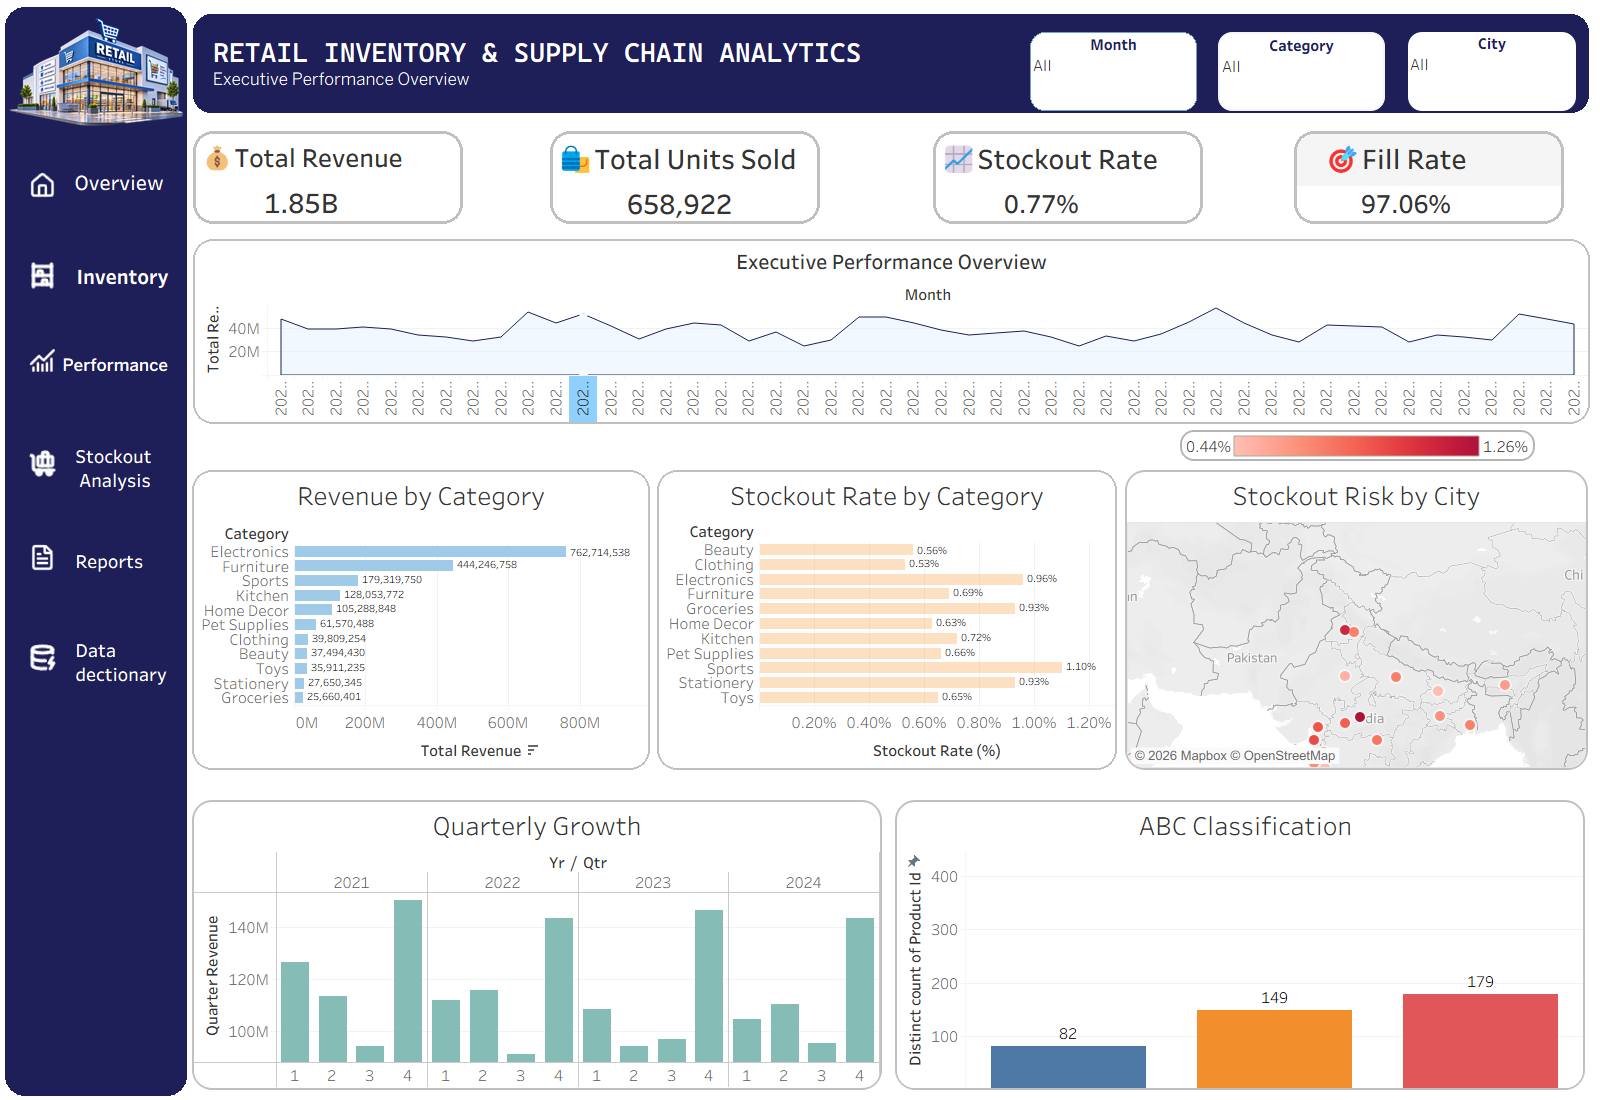

What the dashboard file says about the page in this screenshot:
{"tool":"tableau","page":{"name":"Retail Inventory & Supply Chain Analytics","canvas":[1400,900],"ordinal":1},"visuals":[{"type":"image","param":"C:/Users/sumer_idz14/Downloads/ChatGPT Image Aug 18, 2026, 01_57_03 PM.png","box":[7,6,153,106]},{"type":"image","param":"C:/Users/sumer_idz14/Documents/Projects ----/EV Charging Station Demand Analysis","box":[16,16,1368,868]},{"type":"text","box":[169,19,1221,89]},{"type":"filter","title":"Executive Performance Overview","param":"[federated.02hf0fc08j33zg1e41bme0dwy80j].[none:month:nk]","box":[897,22,155,80]},{"type":"filter","title":"Revenue by Category","param":"[federated.062l1l41enw07t108fr910so1ngt].[none:category:nk]","box":[1061,22,155,81]},{"type":"filter","title":"Stockout Risk by City","param":"[federated.0ufaq6i0nyh3ez1esy3gd18hnwsr].[attr:city:nk]","box":[1228,22,155,81]},{"type":"text","box":[63,130,113,60]},{"type":"worksheet","title":"Total Revenue","mark":"Automatic","box":[169,131,260,110]},{"type":"worksheet","title":"Total Units Sold","mark":"Automatic","box":[487,131,260,110]},{"type":"worksheet","title":"Stockout Rate","mark":"Automatic","box":[812,131,260,110]},{"type":"worksheet","title":"Fill Rate","mark":"Automatic","box":[1132,131,260,110]},{"type":"image","param":"C:/Users/sumer_idz14/Documents/Projects ----/EV Charging Station Demand Analysis","box":[25,146,24,24]},{"type":"text","box":[63,197,99,64]},{"type":"image","param":"C:/Users/sumer_idz14/Downloads/shelving-unit.png","box":[25,213,24,24]},{"type":"worksheet","title":"Executive Performance Overview","mark":"Area","rows":["total_revenue"],"cols":["month"],"box":[169,260,1222,240]},{"type":"text","box":[52,273,117,52]},{"type":"image","param":"C:/Users/sumer_idz14/Documents/Projects ----/EV Charging Station Demand Analysis","box":[25,284,24,24]},{"type":"text","box":[63,351,110,64]},{"type":"image","param":"C:/Users/sumer_idz14/Downloads/baggage-claim.png","box":[25,368,24,24]},{"type":"text","box":[63,430,108,58]},{"type":"image","param":"C:/Users/sumer_idz14/Documents/Projects ----/EV Charging Station Demand Analysis","box":[25,445,24,24]},{"type":"text","box":[63,500,108,83]},{"type":"legend","title":"Stockout Risk by City","param":"[federated.0ufaq6i0nyh3ez1esy3gd18hnwsr].[sum:stockout_rate_pct:qk]","box":[999,515,382,30]},{"type":"image","param":"C:/Users/sumer_idz14/Downloads/database-zap.png","box":[25,527,24,24]},{"type":"worksheet","title":"Stockout Risk by City","mark":"Automatic","box":[986,554,405,285]},{"type":"worksheet","title":"Revenue by Category","mark":"Automatic","rows":["category"],"cols":["total_revenue"],"box":[168,555,405,281]},{"type":"worksheet","title":"Stockout Rate by Category","mark":"Automatic","rows":["category"],"cols":["stockout_rate_pct"],"box":[577,556,405,281]}]}

Visuals, with their boxes on the page's 1400x900 design canvas (x1, y1, x2, y2). These are canvas units, not pixel positions in the 1600x1100 screenshot, which may show the page scaled, cropped or inside an application window:
image: [x1=7, y1=6, x2=160, y2=112]
image: [x1=16, y1=16, x2=1384, y2=884]
text: [x1=169, y1=19, x2=1390, y2=108]
"Executive Performance Overview" filter: [x1=897, y1=22, x2=1052, y2=102]
"Revenue by Category" filter: [x1=1061, y1=22, x2=1216, y2=103]
"Stockout Risk by City" filter: [x1=1228, y1=22, x2=1383, y2=103]
text: [x1=63, y1=130, x2=176, y2=190]
"Total Revenue" worksheet: [x1=169, y1=131, x2=429, y2=241]
"Total Units Sold" worksheet: [x1=487, y1=131, x2=747, y2=241]
"Stockout Rate" worksheet: [x1=812, y1=131, x2=1072, y2=241]
"Fill Rate" worksheet: [x1=1132, y1=131, x2=1392, y2=241]
image: [x1=25, y1=146, x2=49, y2=170]
text: [x1=63, y1=197, x2=162, y2=261]
image: [x1=25, y1=213, x2=49, y2=237]
"Executive Performance Overview" worksheet (Area marks): [x1=169, y1=260, x2=1391, y2=500]
text: [x1=52, y1=273, x2=169, y2=325]
image: [x1=25, y1=284, x2=49, y2=308]
text: [x1=63, y1=351, x2=173, y2=415]
image: [x1=25, y1=368, x2=49, y2=392]
text: [x1=63, y1=430, x2=171, y2=488]
image: [x1=25, y1=445, x2=49, y2=469]
text: [x1=63, y1=500, x2=171, y2=583]
"Stockout Risk by City" legend: [x1=999, y1=515, x2=1381, y2=545]
image: [x1=25, y1=527, x2=49, y2=551]
"Stockout Risk by City" worksheet: [x1=986, y1=554, x2=1391, y2=839]
"Revenue by Category" worksheet: [x1=168, y1=555, x2=573, y2=836]
"Stockout Rate by Category" worksheet: [x1=577, y1=556, x2=982, y2=837]
